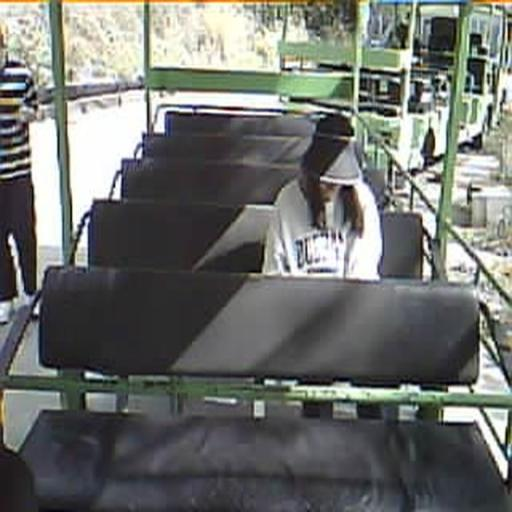persona: (262, 114, 384, 281)
